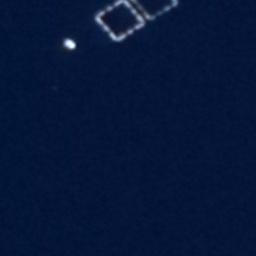square_solid: (89, 1, 149, 45), (124, 1, 184, 27)
